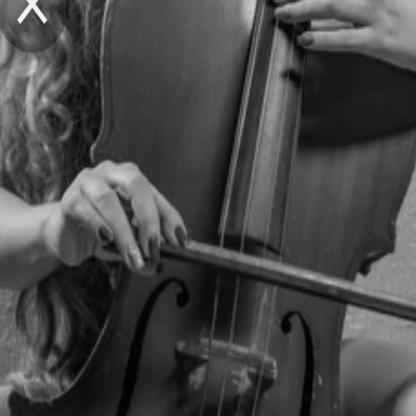bad: (26, 115, 200, 296)
